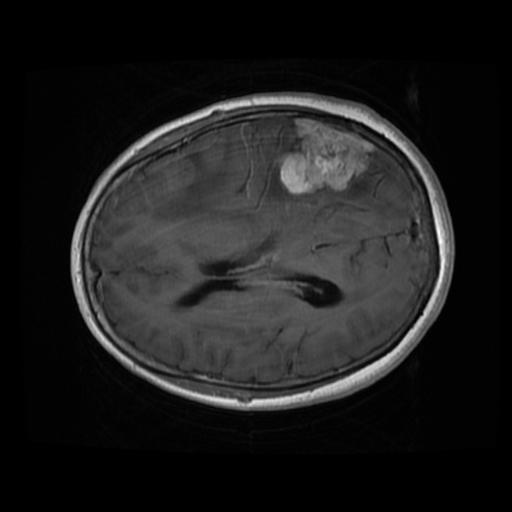meningioma: (278, 118, 374, 195)
